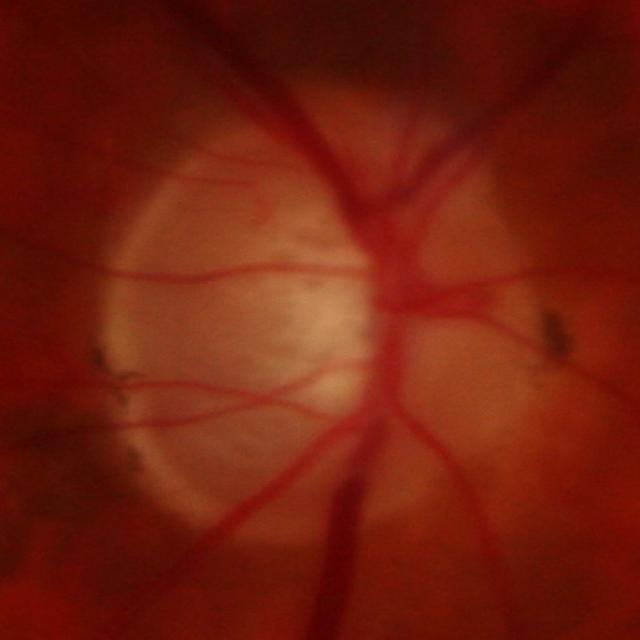OC: (264, 204, 376, 417)
OD: (94, 91, 546, 551)
